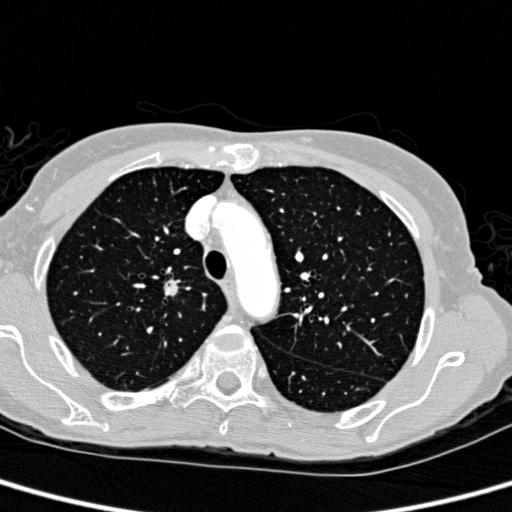nodule: (160, 278, 181, 299)
